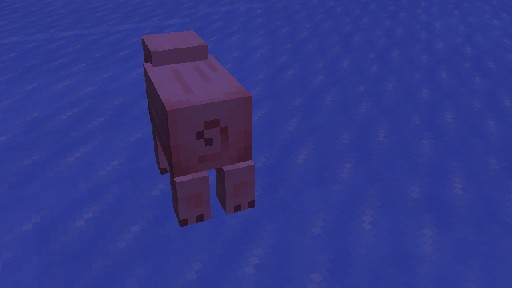pig: (141, 29, 255, 227)
